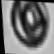correct: (2, 0, 53, 54)
